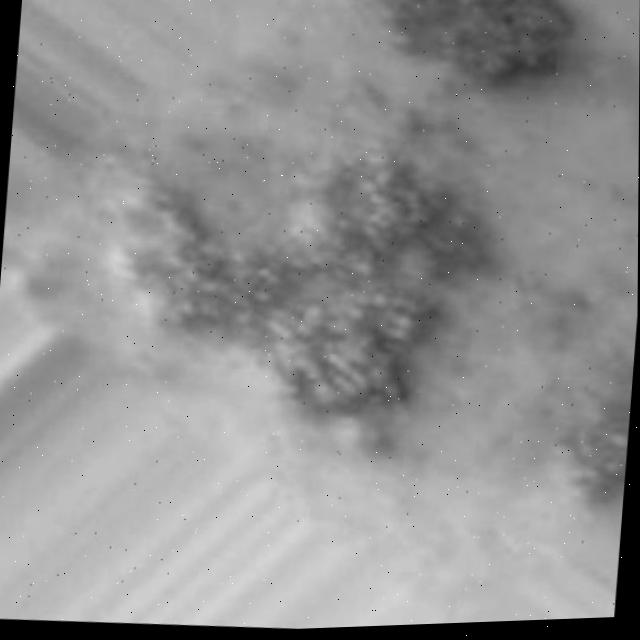Shingles: (69, 0, 640, 531)
